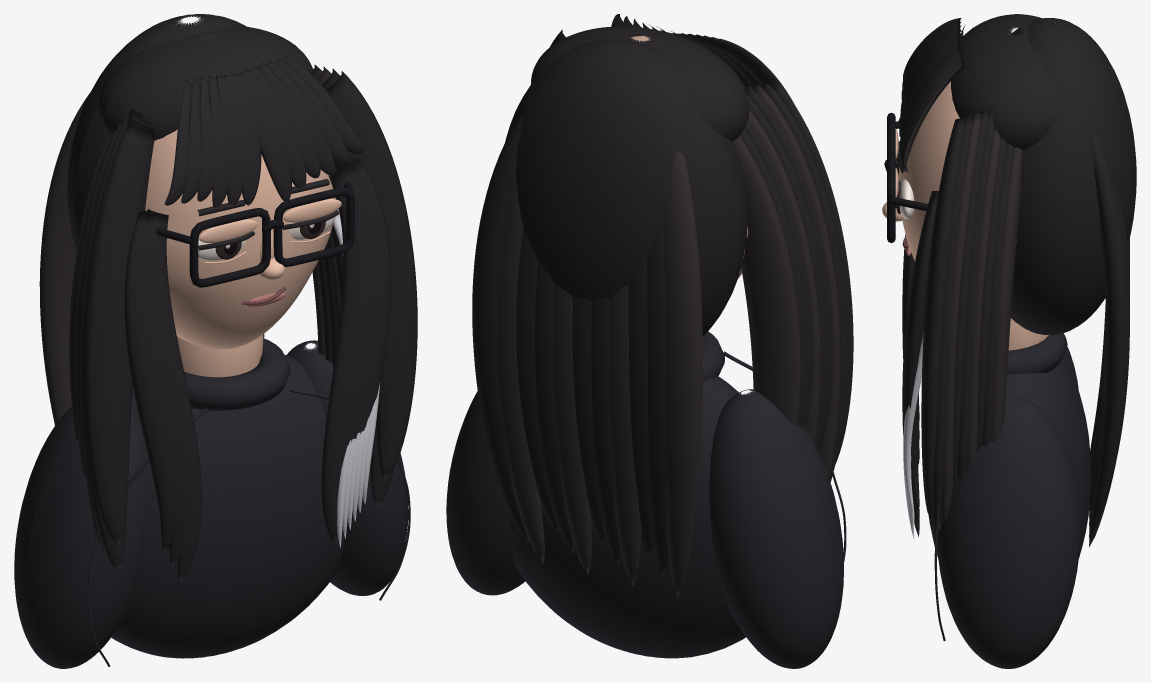
File: sherry-avatar-blender-v2.glb
3 views of the same model, side by side, from view 1: azimuth 30°, elevation 25°; view 2: azimuth 150°, elevation 25°; view 3: azimuth 270°, elevation 25° (orthographic). The views are drawn at different scales.
Visible parts, largest first — view 1: SweaterTorso, LeftSleeve, V6LayeredLock-1_8, Face, V6LayeredLock1_8, CrownHair, V6ChestLock-1_2, V6ChestLock1_0, RightSleeve, V6BackLayer00, V6ChestLock-1_0, BackHair (+35 smaller); view 2: BackHair, LeftSleeve, SweaterTorso, V6BackLayer00, V6LayeredLock-1_0, RightSleeve, V6BackLayer10, V6BackLayer09, CrownHair, V6BackLayer01, V6BackLayer03, V6BackLayer06 (+15 smaller); view 3: RightSleeve, BackHair, CrownHair, V6BackLayer10, V6LayeredLock1_8, SweaterTorso, Face, V6ChestLock1_2, V6LayeredLock1_0, V6LayeredLock1_7, V6LayeredLock1_6, V6LayeredLock1_4 (+20 smaller).
Part boxes in pixels (left/top/right/bottom): SweaterTorso: left=111, top=355, right=344, bottom=658; LeftSleeve: left=14, top=406, right=147, bottom=668; V6LayeredLock-1_8: left=83, top=122, right=155, bottom=544; Face: left=145, top=129, right=335, bottom=349; V6LayeredLock1_8: left=326, top=71, right=417, bottom=479; CrownHair: left=98, top=26, right=312, bottom=140; V6ChestLock-1_2: left=124, top=211, right=174, bottom=552; V6ChestLock1_0: left=321, top=161, right=369, bottom=544; RightSleeve: left=286, top=340, right=408, bottom=595; V6BackLayer00: left=39, top=92, right=90, bottom=425; V6ChestLock-1_0: left=147, top=209, right=201, bottom=582; BackHair: left=67, top=14, right=246, bottom=249; BackHair: left=505, top=39, right=747, bottom=336; LeftSleeve: left=709, top=389, right=843, bottom=668; SweaterTorso: left=510, top=376, right=745, bottom=658; V6BackLayer00: left=663, top=151, right=702, bottom=596; V6LayeredLock-1_0: left=733, top=136, right=800, bottom=426; RightSleeve: left=446, top=391, right=525, bottom=595; V6BackLayer10: left=472, top=113, right=528, bottom=542; V6BackLayer09: left=497, top=182, right=544, bottom=563; CrownHair: left=531, top=26, right=749, bottom=141; V6BackLayer01: left=647, top=218, right=669, bottom=575; V6BackLayer03: left=610, top=285, right=641, bottom=585; V6BackLayer06: left=553, top=285, right=591, bottom=574; RightSleeve: left=937, top=394, right=1080, bottom=668; BackHair: left=1010, top=18, right=1136, bottom=334; CrownHair: left=951, top=14, right=1058, bottom=150; V6BackLayer10: left=1089, top=129, right=1129, bottom=537; V6LayeredLock1_8: left=921, top=118, right=966, bottom=517; SweaterTorso: left=928, top=356, right=1091, bottom=558; Face: left=899, top=81, right=959, bottom=260; V6ChestLock1_2: left=902, top=194, right=937, bottom=511; V6LayeredLock1_0: left=991, top=147, right=1022, bottom=442; V6LayeredLock1_7: left=932, top=115, right=974, bottom=543; V6LayeredLock1_6: left=941, top=113, right=982, bottom=525; V6LayeredLock1_4: left=957, top=115, right=994, bottom=478.
Size of the model in its own units: 1.82 by 2.87 by 1.12.
